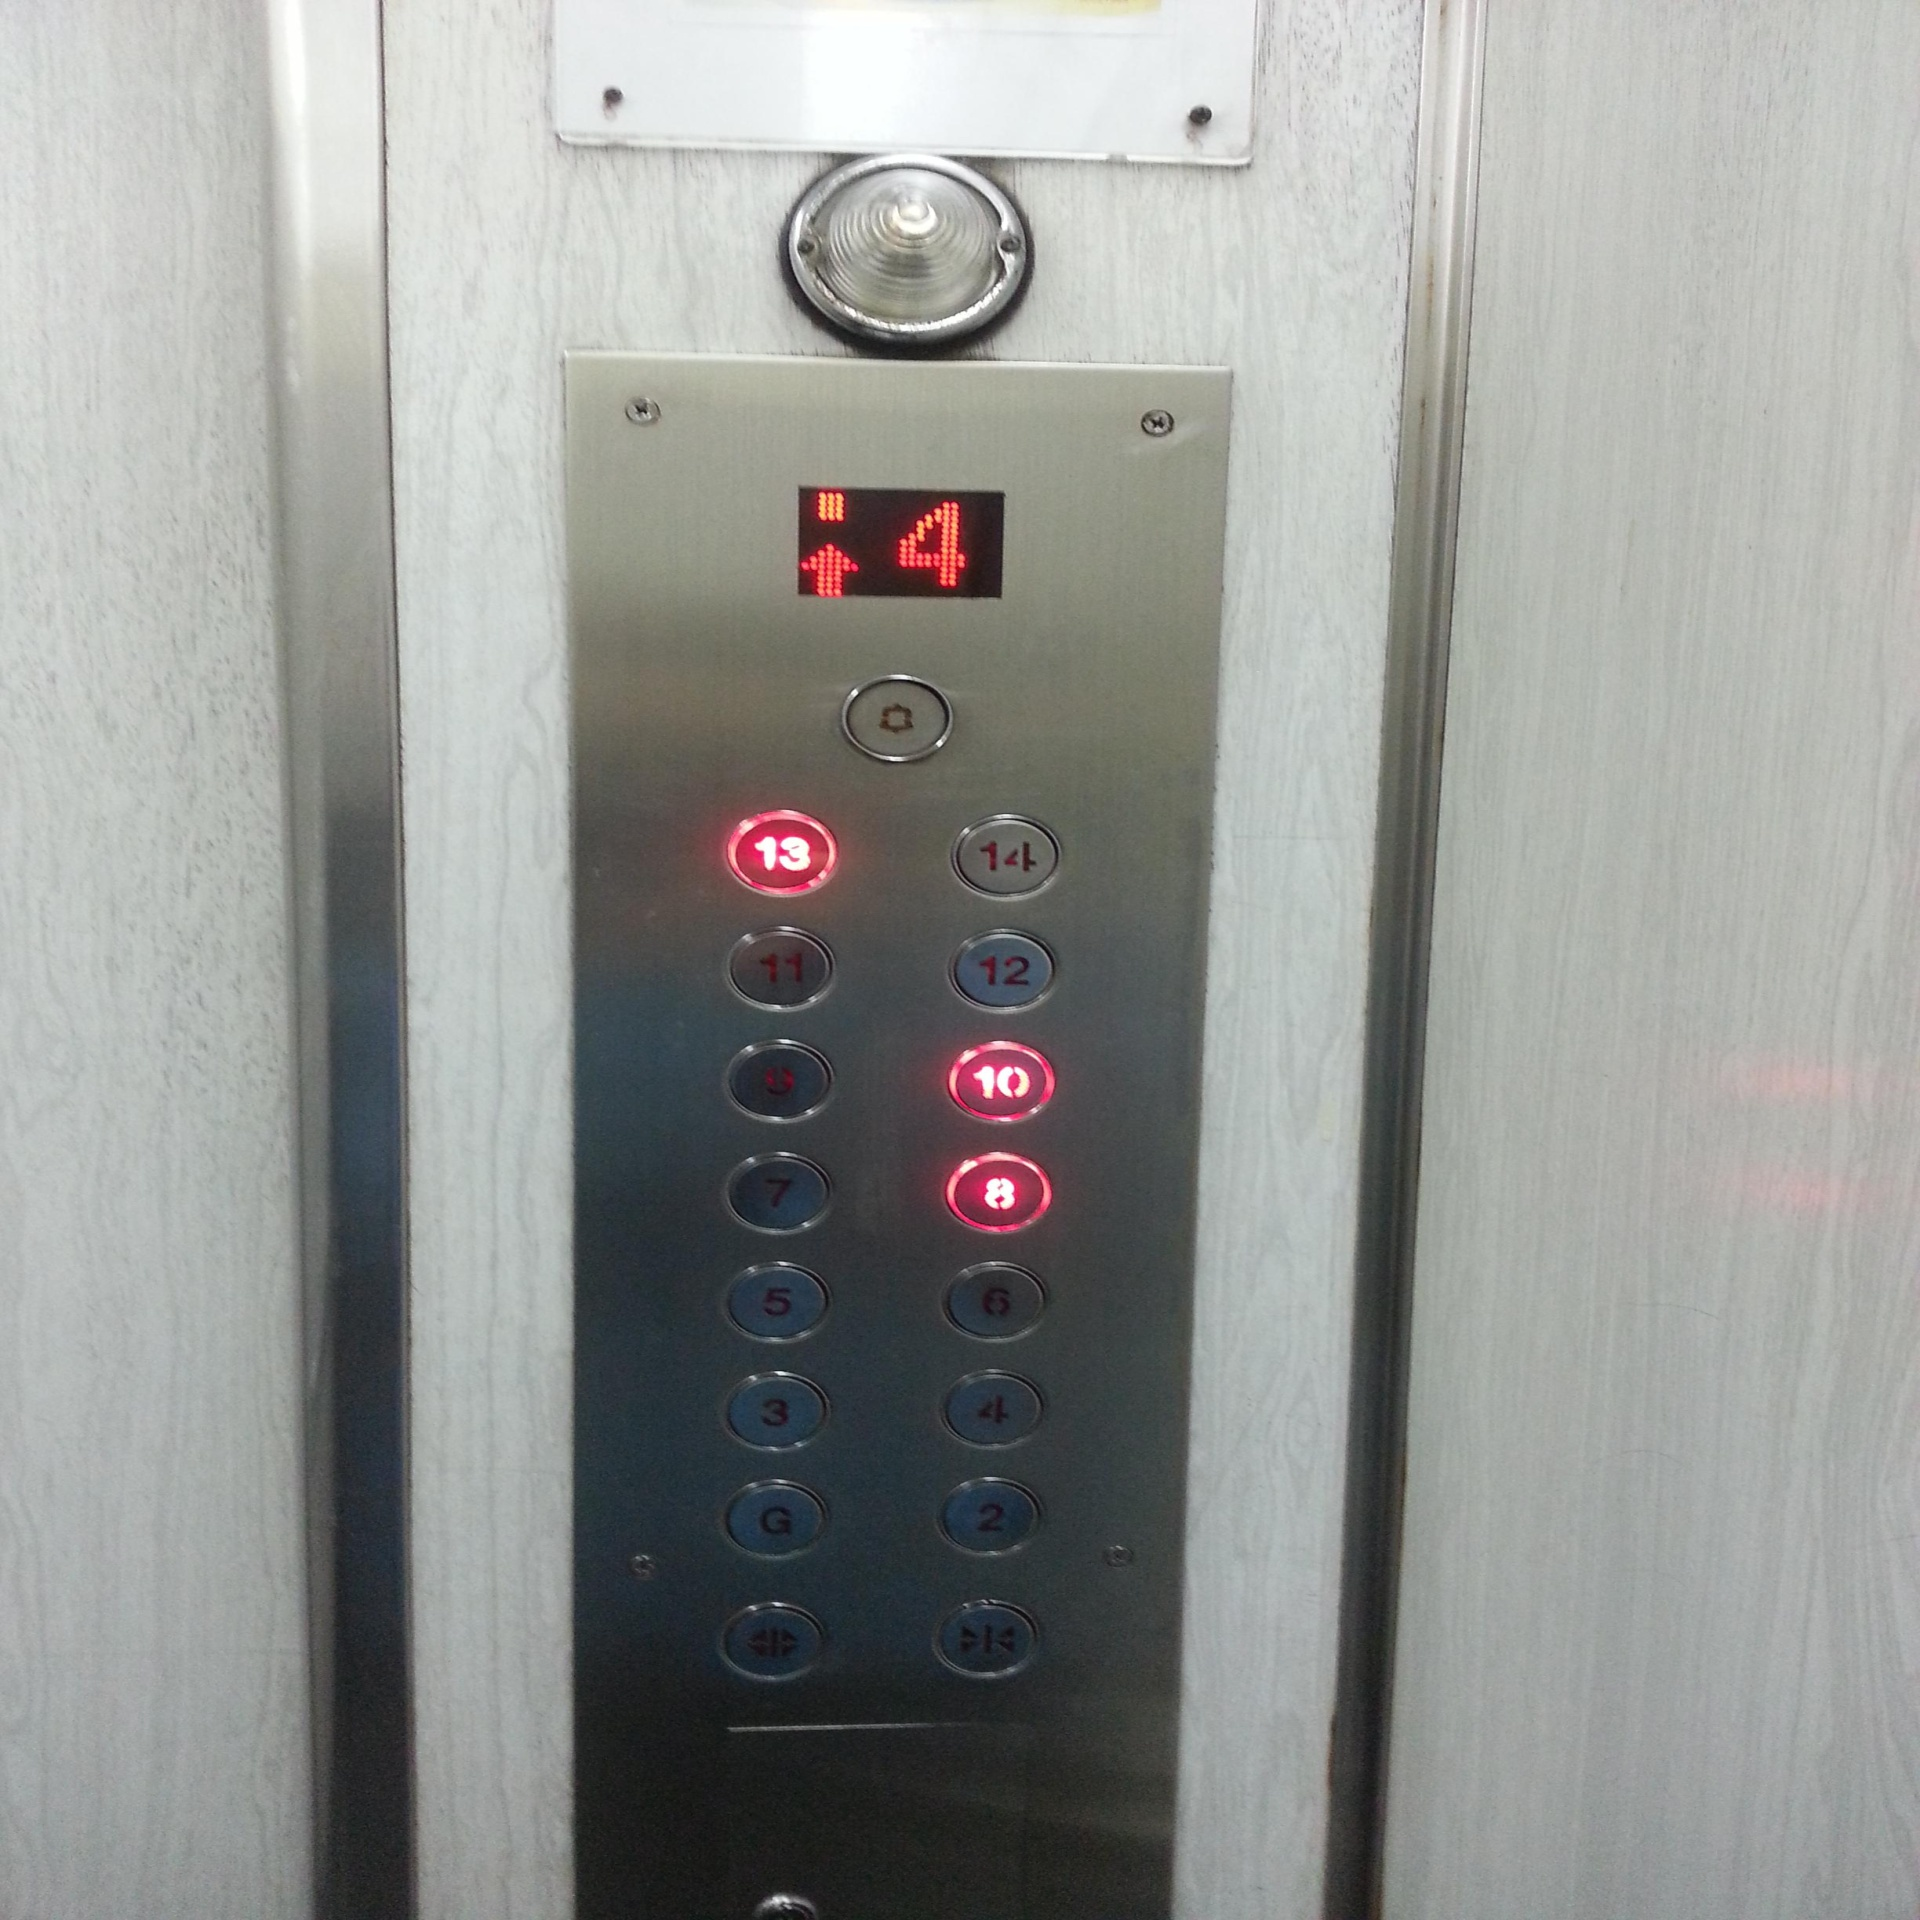10: (946, 1041, 1057, 1124)
11: (724, 925, 839, 1013)
12: (949, 927, 1060, 1013)
13: (726, 811, 837, 897)
14: (951, 812, 1064, 898)
2: (935, 1477, 1044, 1558)
3: (723, 1371, 830, 1452)
4: (941, 1368, 1044, 1449)
5: (723, 1261, 832, 1343)
6: (942, 1262, 1051, 1343)
7: (723, 1148, 833, 1234)
8: (944, 1152, 1051, 1233)
9: (724, 1039, 833, 1125)
G: (723, 1479, 832, 1561)
alarm: (840, 673, 953, 761)
close: (934, 1598, 1039, 1681)
led: (791, 476, 1007, 601)
open: (717, 1602, 826, 1684)
unknown: (768, 142, 1039, 355)
